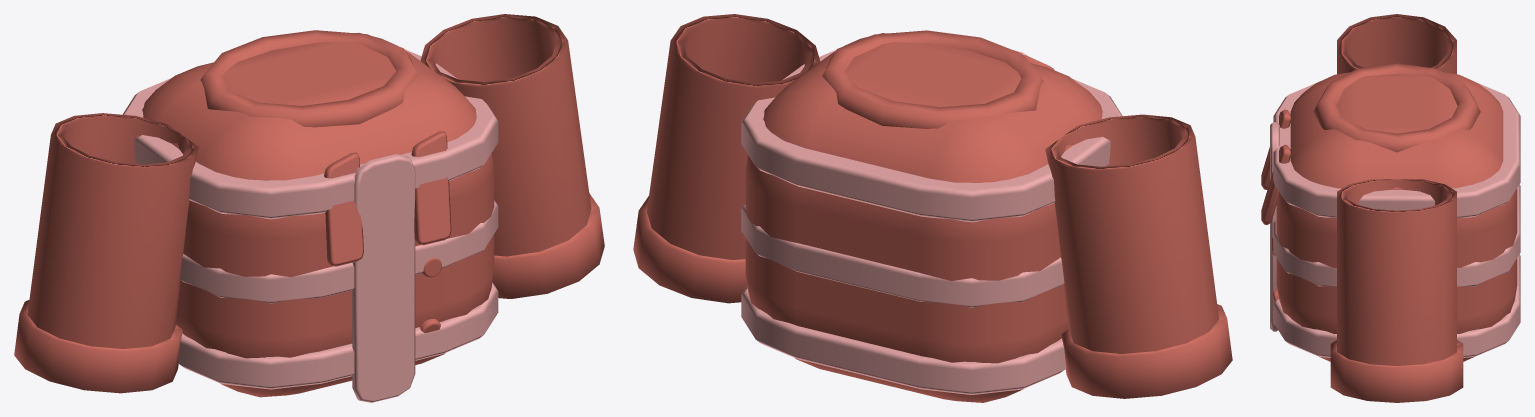
File: paradise_planning_jacket.glb
3 views of the same model, side by side, from view 1: azimuth 30°, elevation 25°; view 2: azimuth 150°, elevation 25°; view 3: azimuth 270°, elevation 25° (orthographic). The views are drawn at different scales.
Parts seen in each view (by area): view 1: paradise_planning_jacket_Body, paradise_planning_jacket_ArmL, paradise_planning_jacket_ArmR; view 2: paradise_planning_jacket_Body, paradise_planning_jacket_ArmL, paradise_planning_jacket_ArmR; view 3: paradise_planning_jacket_Body, paradise_planning_jacket_ArmR, paradise_planning_jacket_ArmL.
Boxes of the visible parts, x1,y1,x2,y2 form: paradise_planning_jacket_Body: (122,30,498,402); paradise_planning_jacket_ArmL: (14,113,198,393); paradise_planning_jacket_ArmR: (420,14,604,298); paradise_planning_jacket_Body: (741,30,1122,402); paradise_planning_jacket_ArmL: (1045,114,1232,398); paradise_planning_jacket_ArmR: (633,14,820,303); paradise_planning_jacket_Body: (1261,63,1520,361); paradise_planning_jacket_ArmR: (1330,179,1463,402); paradise_planning_jacket_ArmL: (1337,14,1456,74).
Size of the model in its own units: 0.6504 by 0.3119 by 0.3125.
